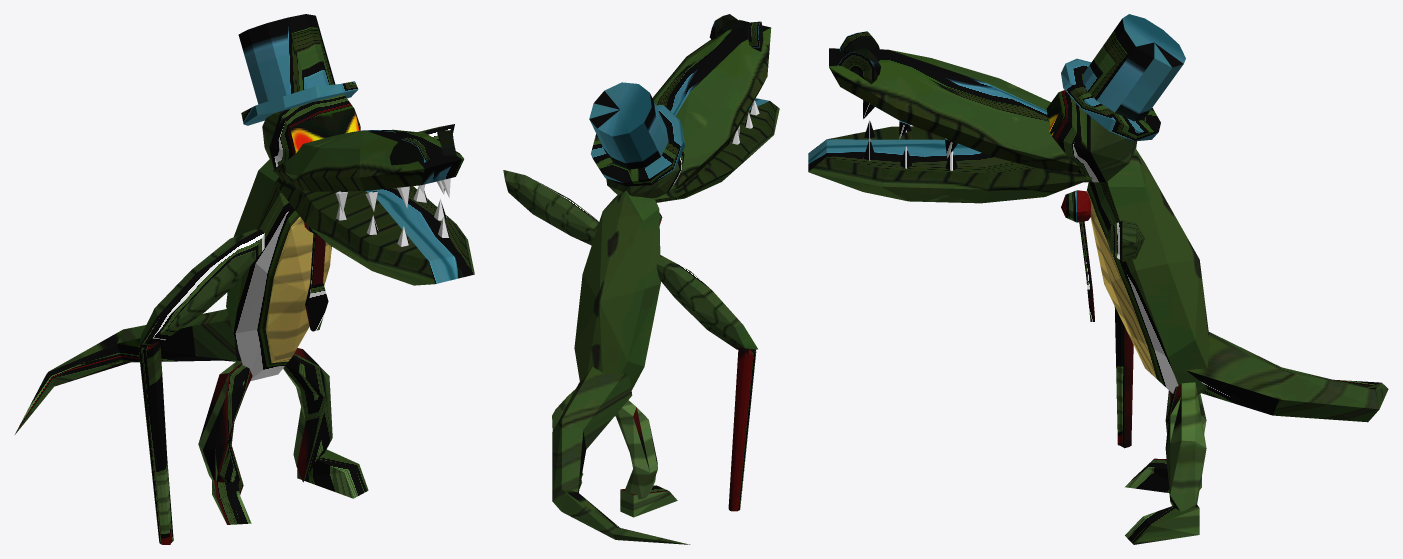
The model's file is Farm2.glb.
The picture shows the model from 3 angles, left to right: view 1: azimuth 30°, elevation 25°; view 2: azimuth 150°, elevation 25°; view 3: azimuth 270°, elevation 25°; orthographic projection. The views are drawn at different scales.
Parts seen in each view (by area): view 1: Farm2; view 2: Farm2; view 3: Farm2.
Part boxes in pixels (<box>): Farm2: <box>15,14,474,544</box>; Farm2: <box>503,14,779,544</box>; Farm2: <box>808,14,1388,544</box>.
Size of the model in its own units: 286 by 406 by 438.
1 material, 1 textured.
